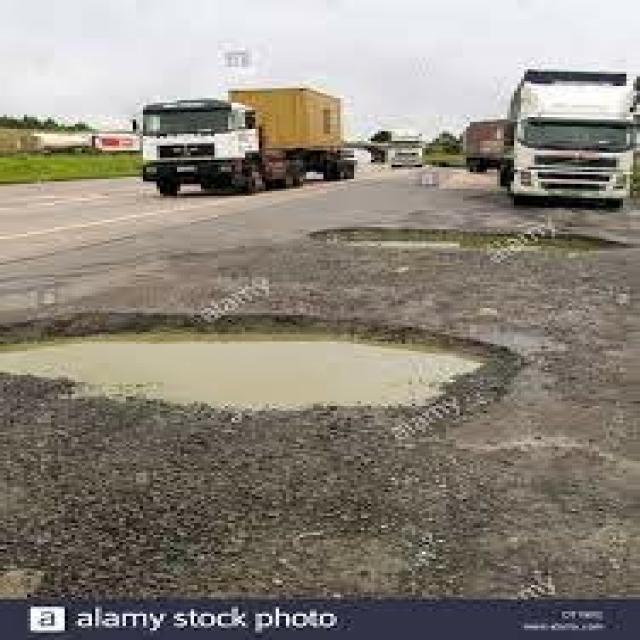Pothole: (14, 294, 558, 458), (282, 205, 640, 295)
